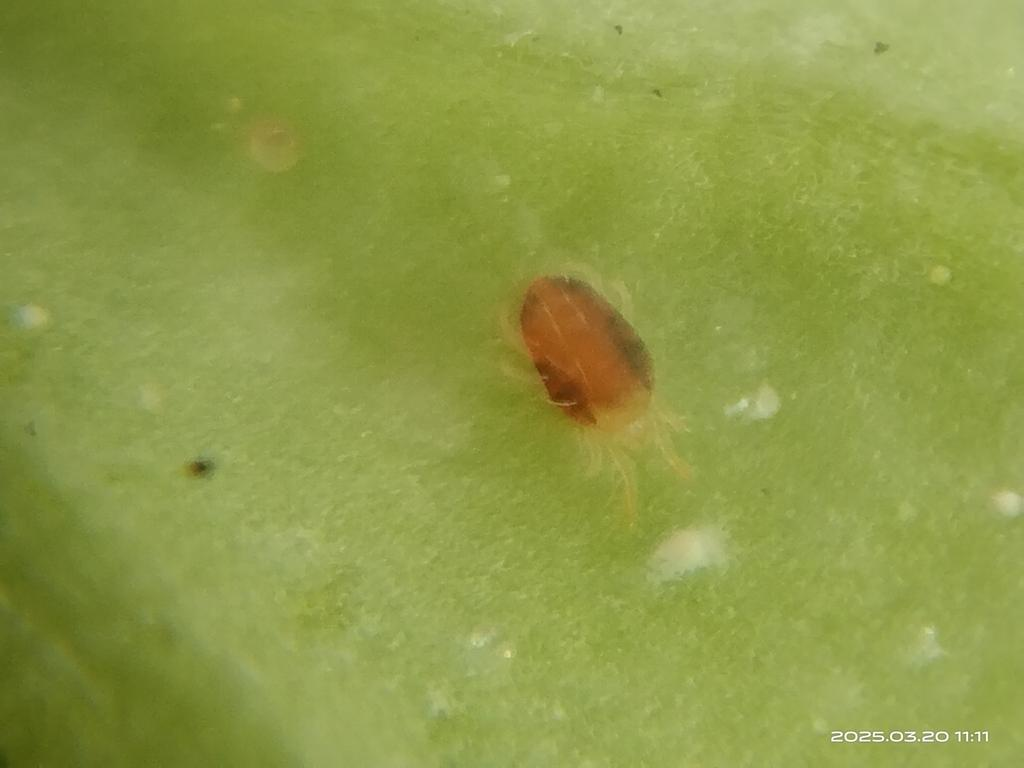tiny_pests: (453, 206, 761, 551)
